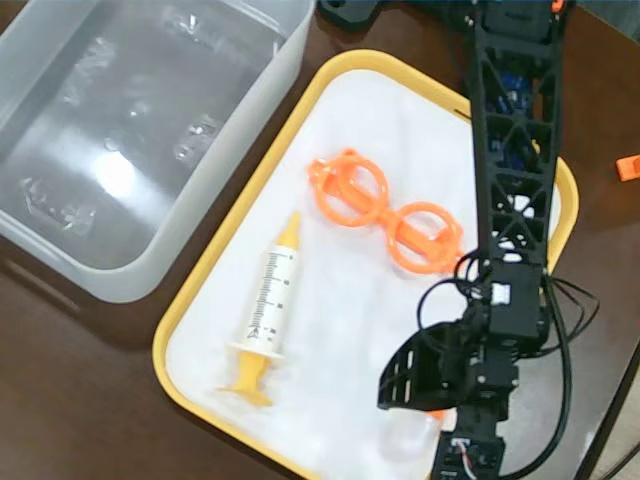syringe: (222, 207, 302, 410)
